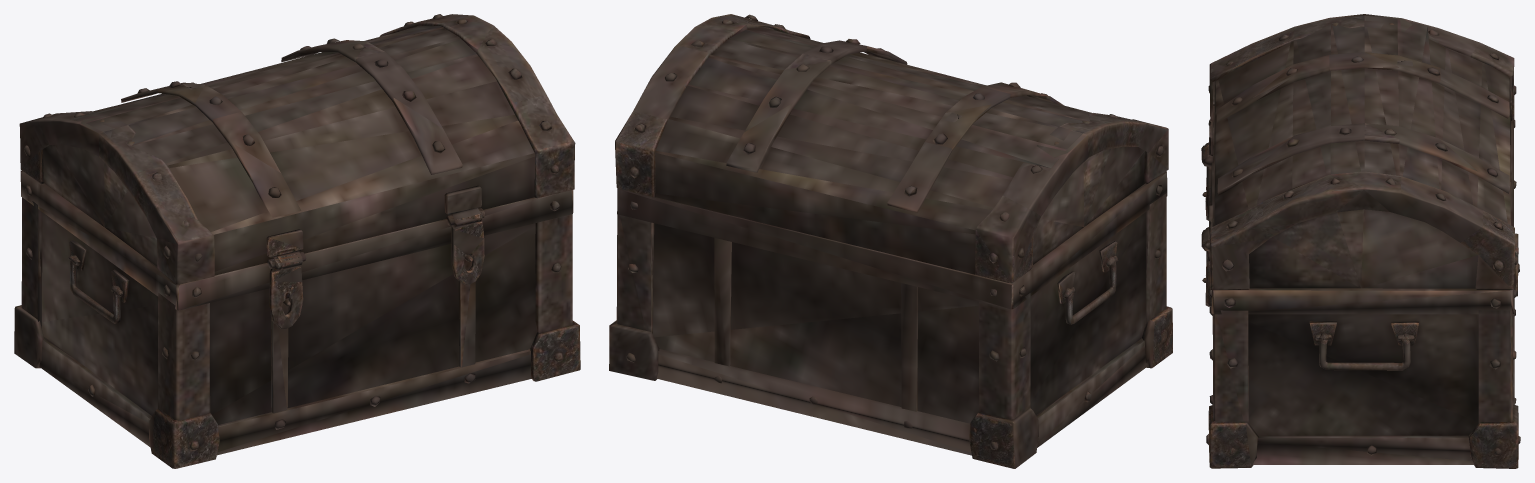
Rendered from d_trunk_large_B.glb.
3 views of the same model, side by side, from view 1: azimuth 30°, elevation 25°; view 2: azimuth 150°, elevation 25°; view 3: azimuth 270°, elevation 25° (orthographic). The views are drawn at different scales.
Parts seen in each view (by area): view 1: d_trunk_large_B; view 2: d_trunk_large_B; view 3: d_trunk_large_B.
Part boxes in pixels (left/top/right/bottom): d_trunk_large_B: left=14, top=14, right=580, bottom=468; d_trunk_large_B: left=609, top=14, right=1172, bottom=468; d_trunk_large_B: left=1201, top=14, right=1520, bottom=468.
Size of the model in its own units: 1.46 by 0.9999 by 1.03.
1 material, 1 textured.
